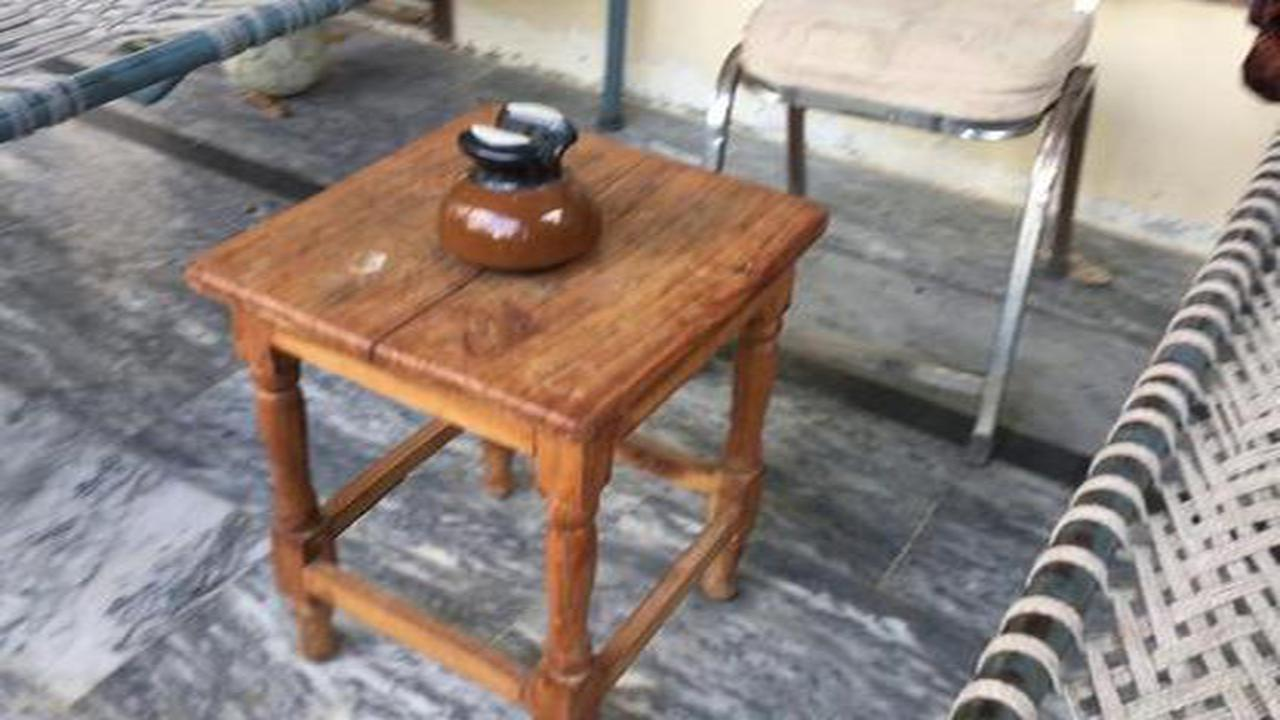insulator_pin: (419, 89, 634, 288)
